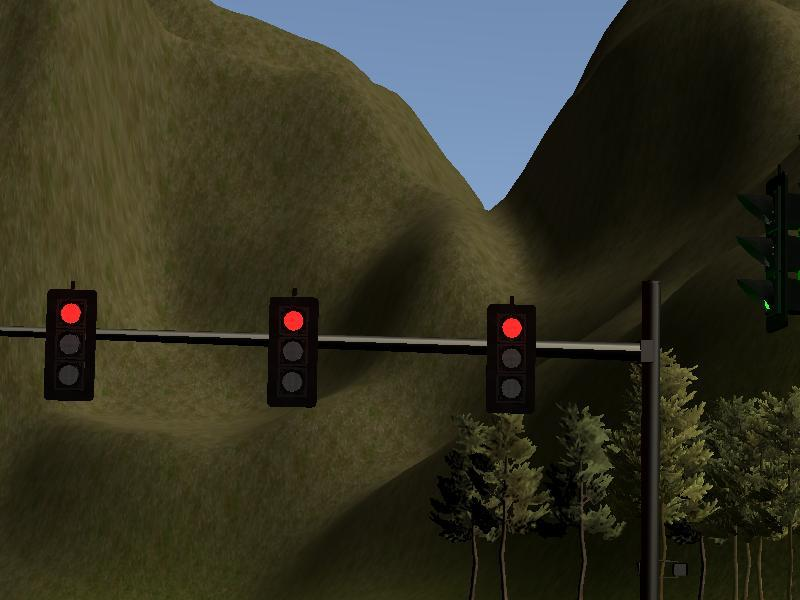Red: (47, 288, 94, 400), (488, 306, 534, 413), (271, 298, 316, 405)
